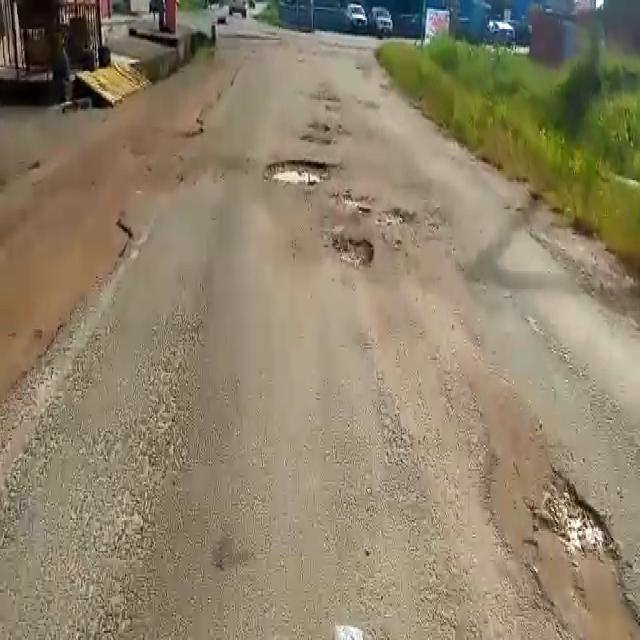Pothole: (527, 471, 640, 640), (264, 156, 338, 188), (331, 234, 376, 270), (332, 192, 375, 220), (375, 208, 418, 230)
